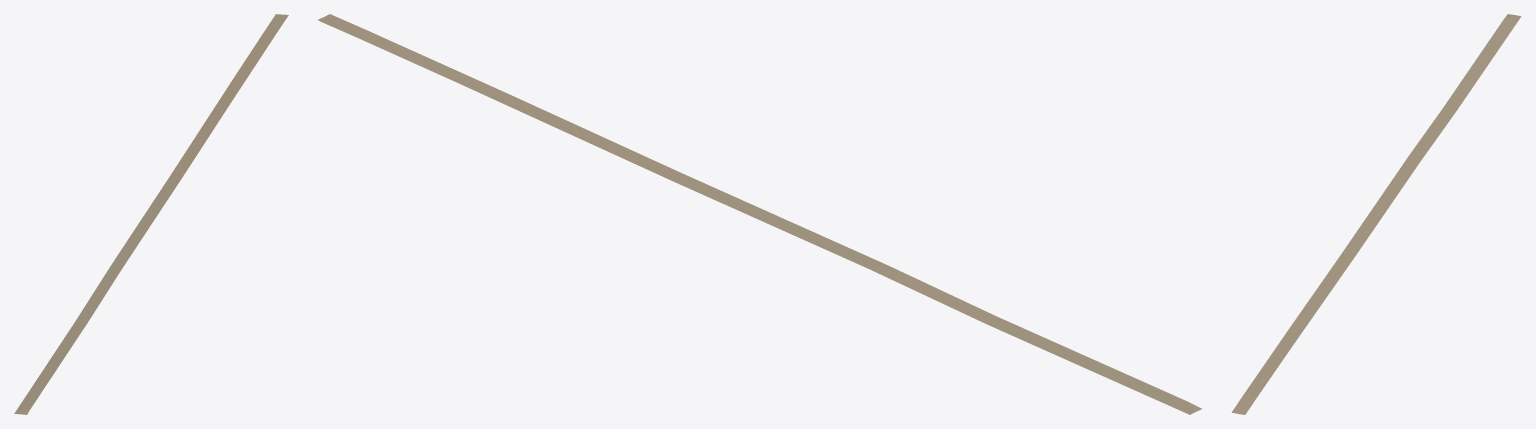
Rendered from farm_-19_-30_track.glb.
3 views of the same model, side by side, from view 1: azimuth 90°, elevation 25°; view 2: azimuth 150°, elevation 25°; view 3: azimuth 270°, elevation 25° (orthographic). The views are drawn at different scales.
Visible parts, largest first — view 1: geometry_0; view 2: geometry_0; view 3: geometry_0.
Part boxes in pixels (<box>): geometry_0: <box>14,14,288,414</box>; geometry_0: <box>318,14,1201,414</box>; geometry_0: <box>1231,14,1521,414</box>.
Size of the model in its own units: 224 by 3.13 by 66.52.
